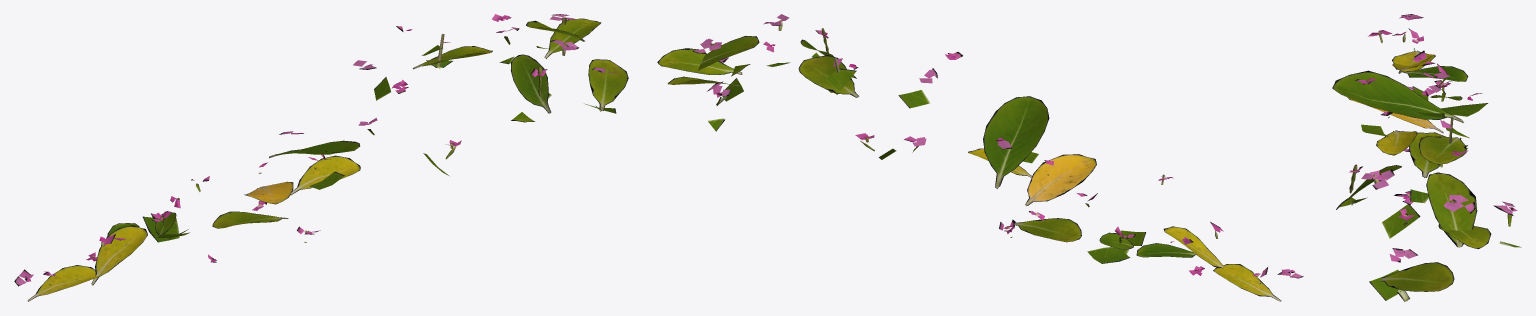
The model's file is periwinkle_plant.glb.
3 renders of one model, left to right at view 1: azimuth 30°, elevation 25°; view 2: azimuth 150°, elevation 25°; view 3: azimuth 270°, elevation 25°, orthographic. The views are drawn at different scales.
Visible parts, largest first — view 1: periwinkle_plant_01_LOD0, periwinkle_plant_03_LOD0, periwinkle_plant_05_LOD0, periwinkle_plant_02_LOD0, periwinkle_plant_06_LOD0, periwinkle_plant_04_LOD0; view 2: periwinkle_plant_03_LOD0, periwinkle_plant_01_LOD0, periwinkle_plant_02_LOD0, periwinkle_plant_05_LOD0, periwinkle_plant_04_LOD0, periwinkle_plant_06_LOD0; view 3: periwinkle_plant_01_LOD0, periwinkle_plant_03_LOD0, periwinkle_plant_02_LOD0, periwinkle_plant_05_LOD0, periwinkle_plant_04_LOD0, periwinkle_plant_06_LOD0.
Part boxes in pixels (box(x1,y1,x2,y2)): periwinkle_plant_01_LOD0: box(492, 14, 628, 122); periwinkle_plant_03_LOD0: box(212, 131, 360, 242); periwinkle_plant_05_LOD0: box(86, 223, 147, 285); periwinkle_plant_02_LOD0: box(353, 26, 492, 175); periwinkle_plant_06_LOD0: box(14, 265, 99, 301); periwinkle_plant_04_LOD0: box(143, 176, 216, 262); periwinkle_plant_03_LOD0: box(968, 96, 1096, 242); periwinkle_plant_01_LOD0: box(657, 14, 856, 131); periwinkle_plant_02_LOD0: box(798, 52, 962, 159); periwinkle_plant_05_LOD0: box(1136, 222, 1223, 275); periwinkle_plant_04_LOD0: box(1077, 174, 1173, 263); periwinkle_plant_06_LOD0: box(1213, 264, 1303, 301); periwinkle_plant_01_LOD0: box(1336, 150, 1521, 301); periwinkle_plant_03_LOD0: box(1332, 70, 1463, 204); periwinkle_plant_02_LOD0: box(1355, 72, 1482, 238); periwinkle_plant_05_LOD0: box(1392, 31, 1467, 81); periwinkle_plant_04_LOD0: box(1368, 30, 1487, 151); periwinkle_plant_06_LOD0: box(1392, 14, 1435, 72).
Bounding box in the file's own units: 1.27 × 0.3179 × 0.2994.
1 material, 1 textured.
